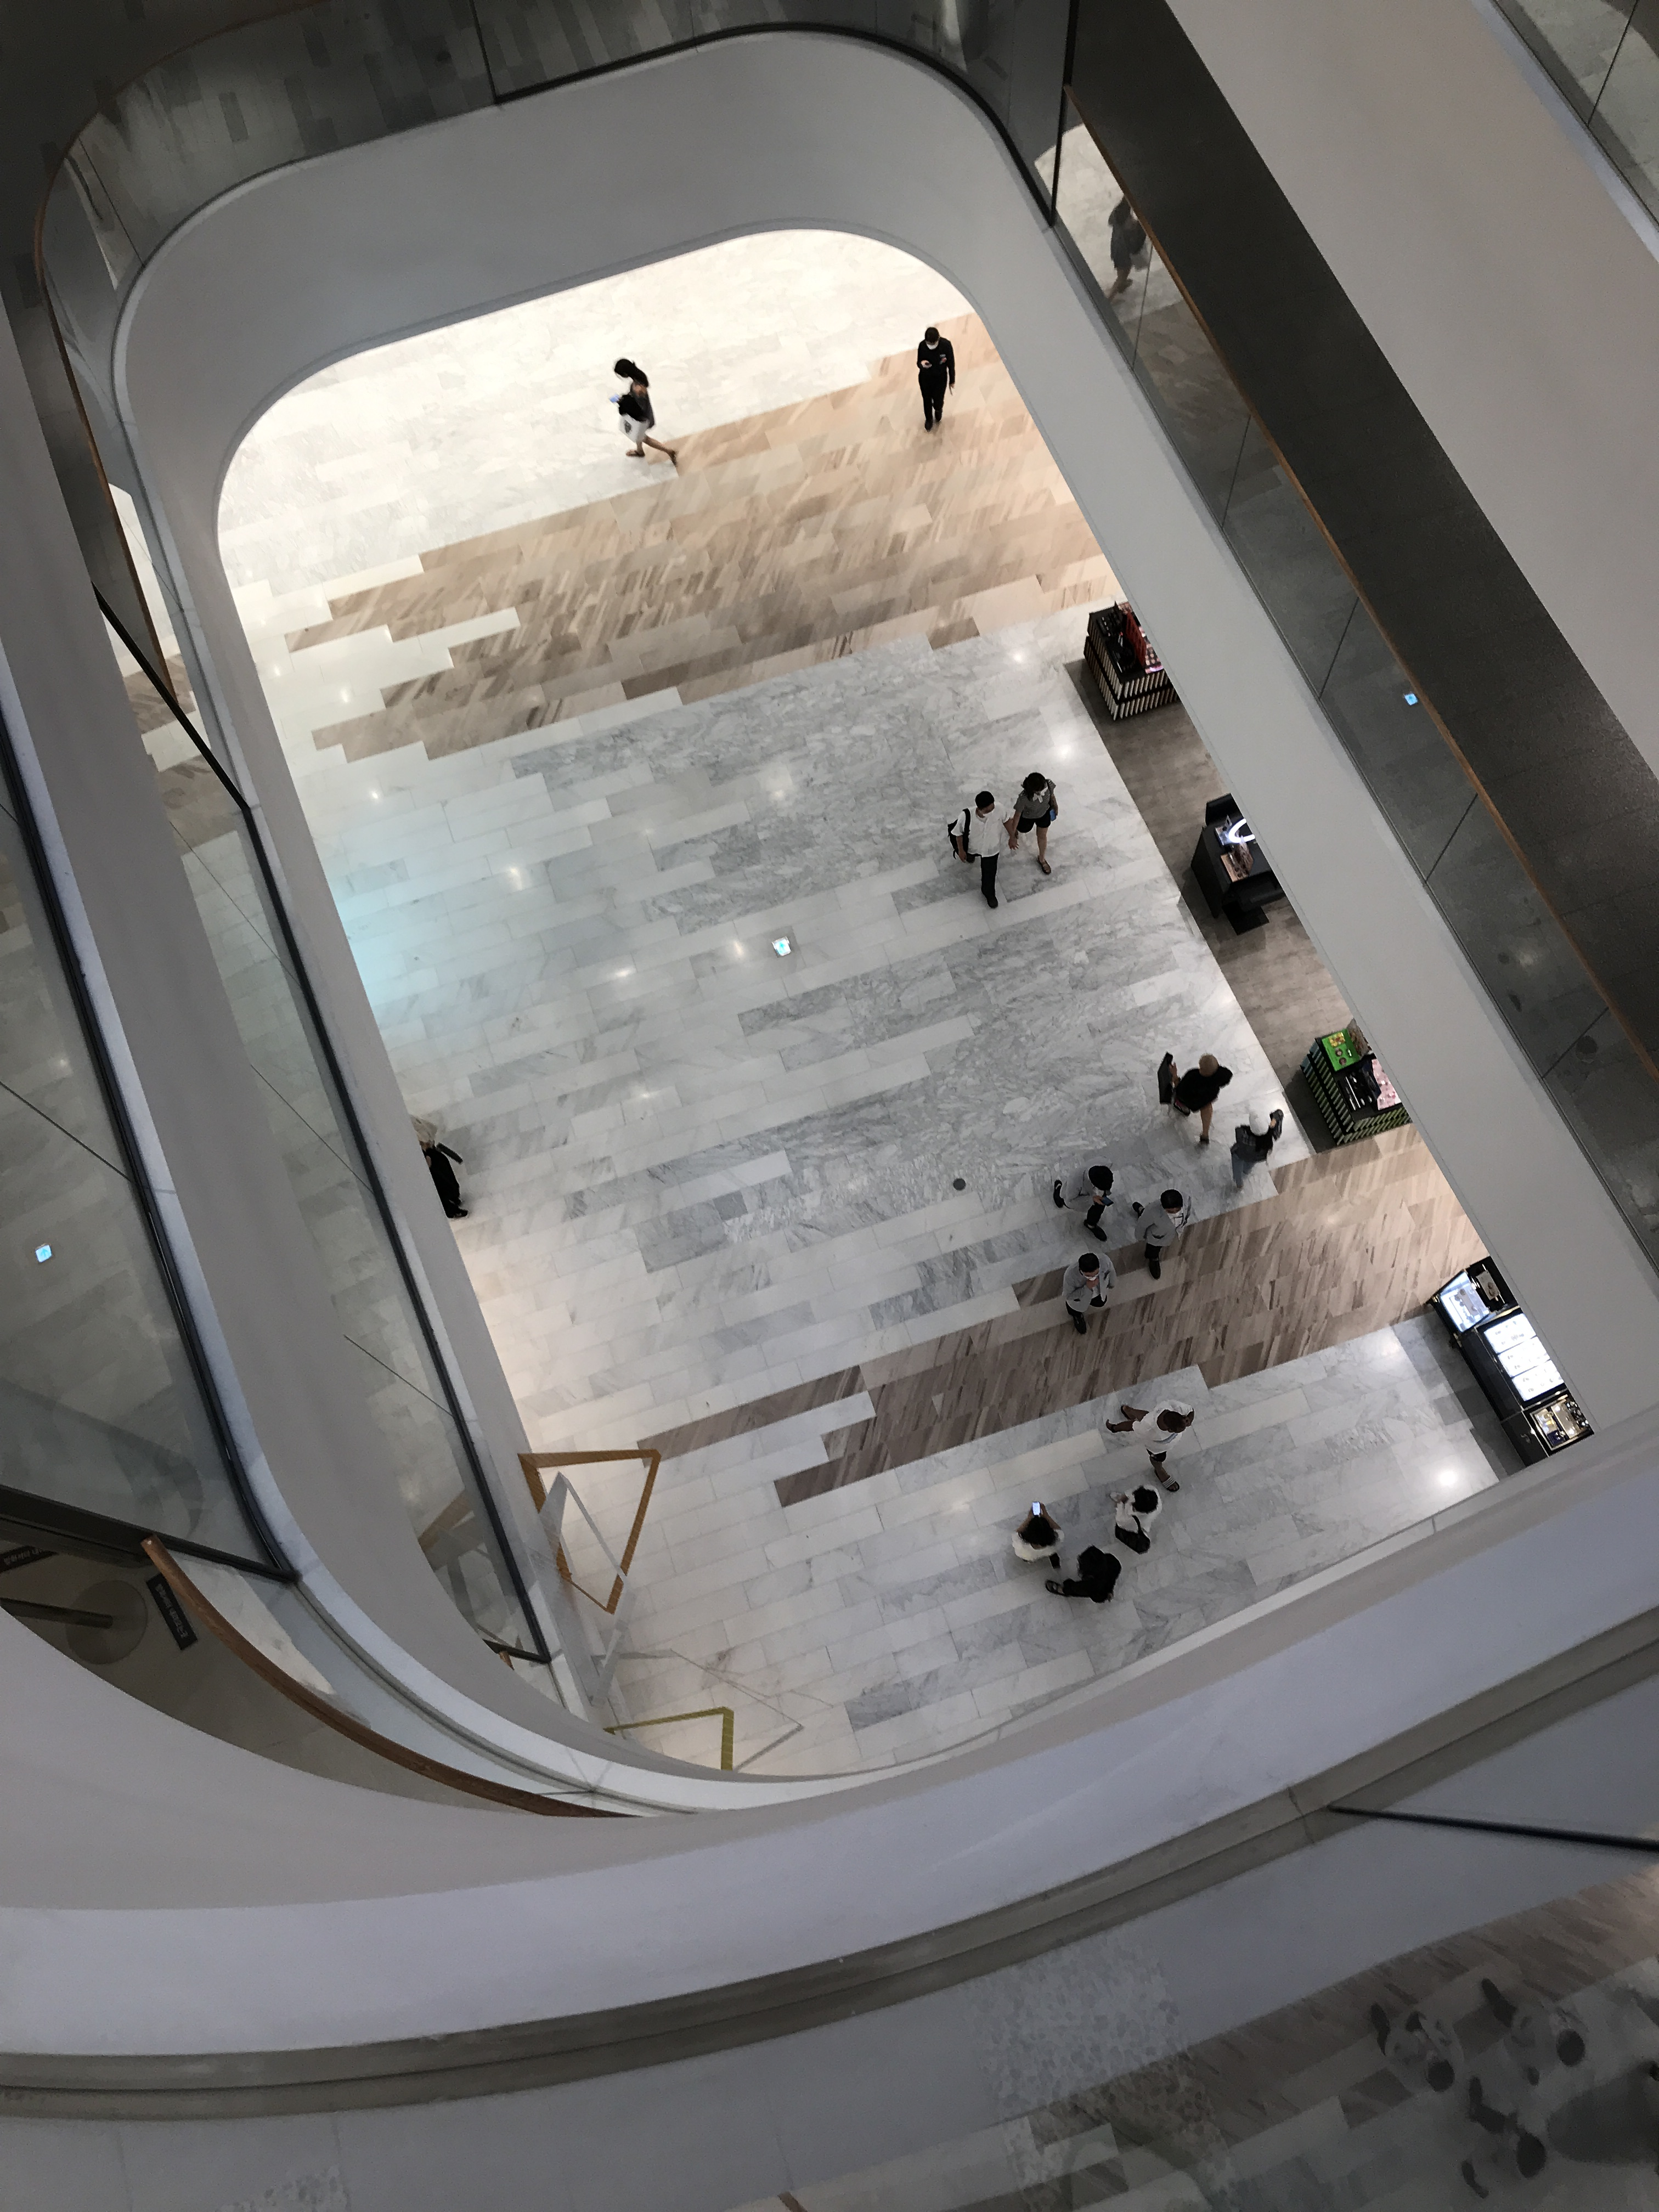person: (1106, 1398, 1198, 1495), (1153, 1050, 1232, 1150), (949, 790, 1006, 915), (1004, 771, 1062, 879), (1128, 1189, 1188, 1284), (1059, 1250, 1122, 1335), (1046, 1163, 1112, 1240), (1046, 1545, 1125, 1608), (618, 390, 681, 469), (1230, 1105, 1283, 1198), (915, 325, 954, 435), (1109, 1481, 1164, 1547), (1012, 1502, 1059, 1568), (609, 358, 647, 401)
